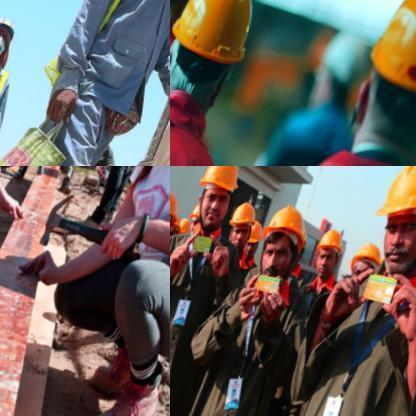Boots: (372, 166, 415, 228), (262, 201, 310, 255)
